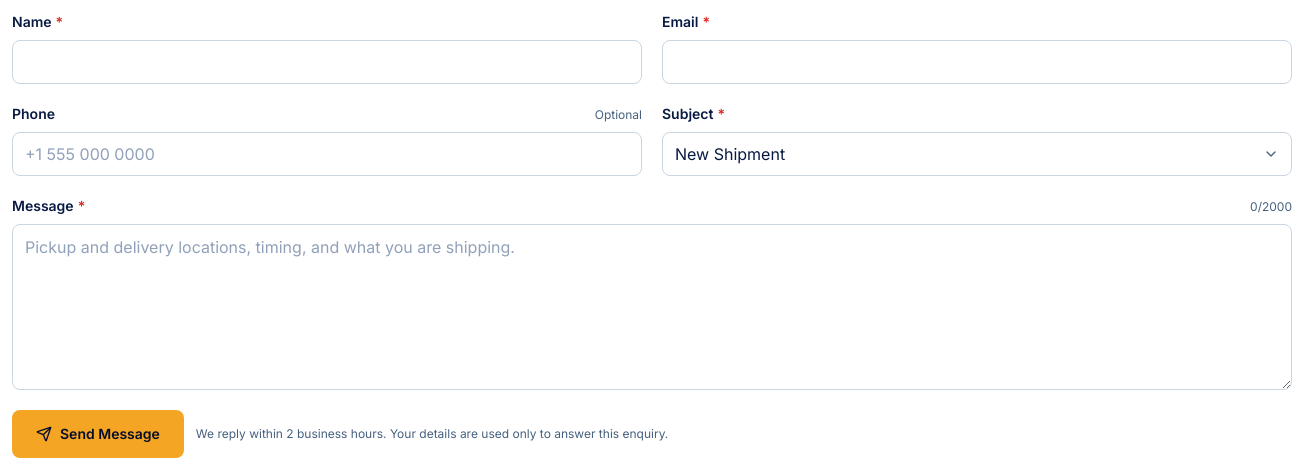
ContactForm › shows the confirmation only after the submission is delivered
Type "Alex Rivera" into the field labelled "Name*" at x=327, y=62, box 12,40 -> 642,84
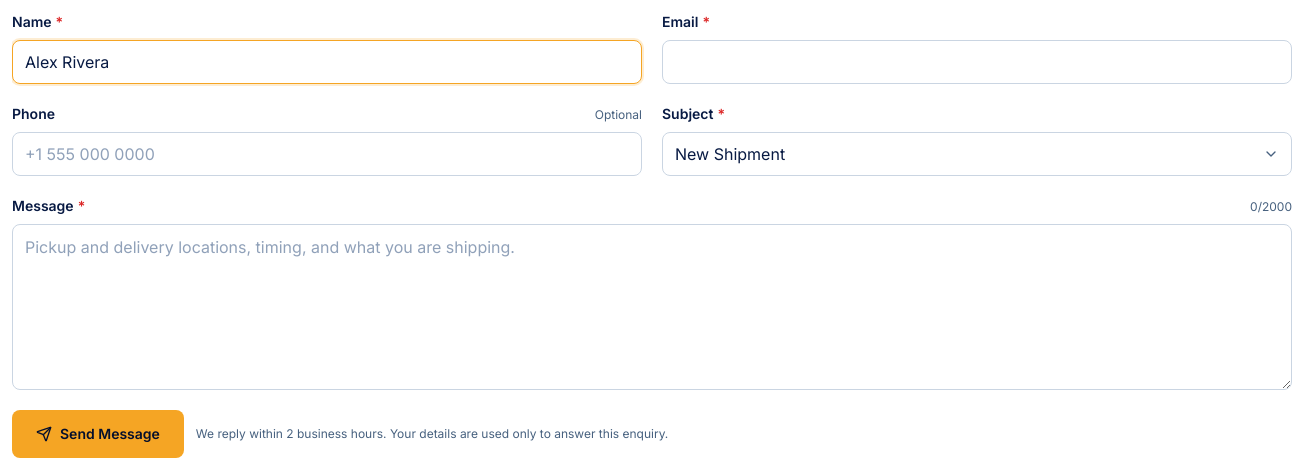
Type "alex@example.com" into the field labelled "Email*" at x=977, y=62, box 662,40 -> 1292,84
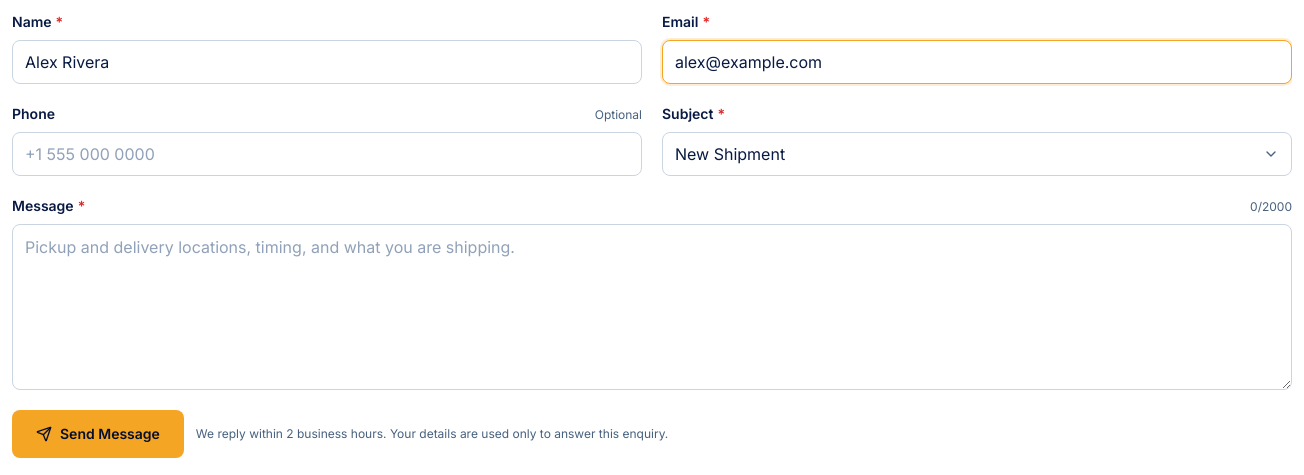
Type "We have a pallet moving to Reno." into the text box labelled "Message*" at x=652, y=307, box 12,224 -> 1292,390
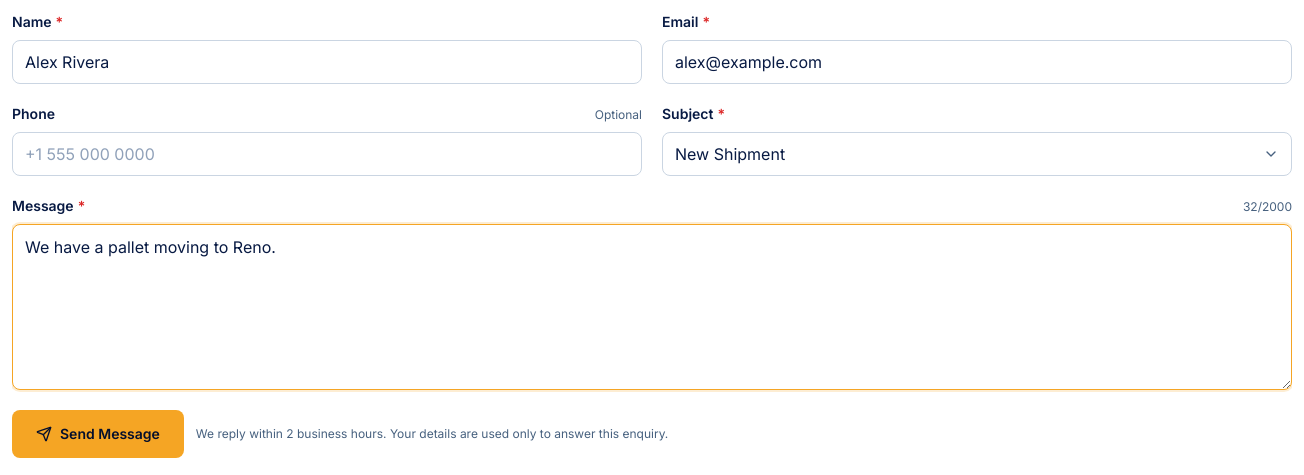
Click the button "Send Message" at x=98, y=434, box 12,410 -> 184,458
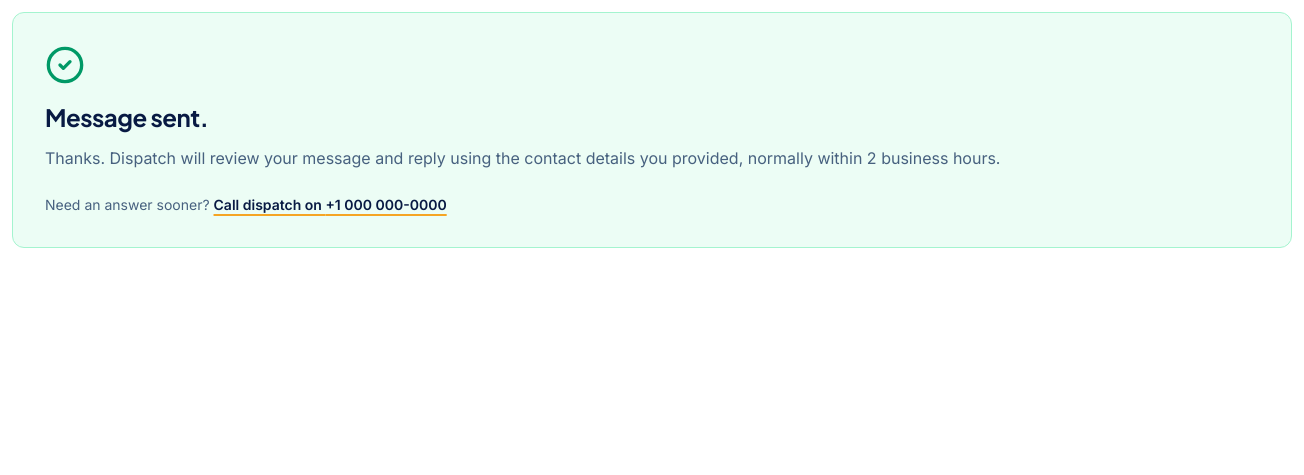
Expected: the heading "Message sent." is shown, 45,102 -> 208,132
